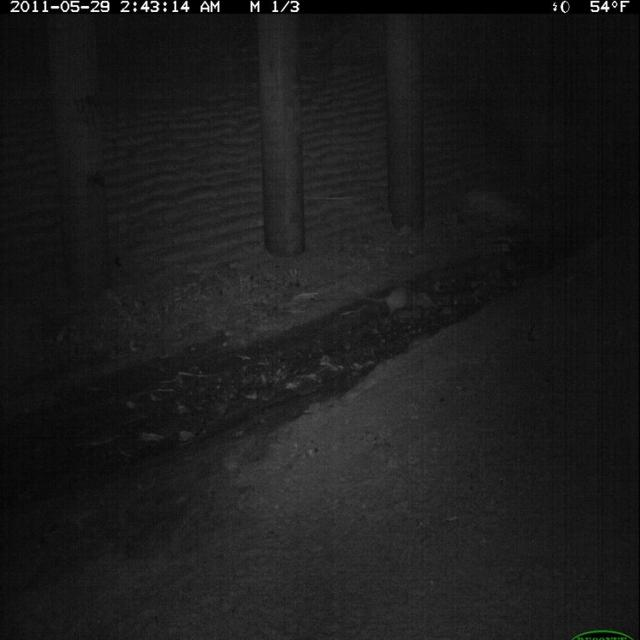opossum: (354, 280, 444, 326)
